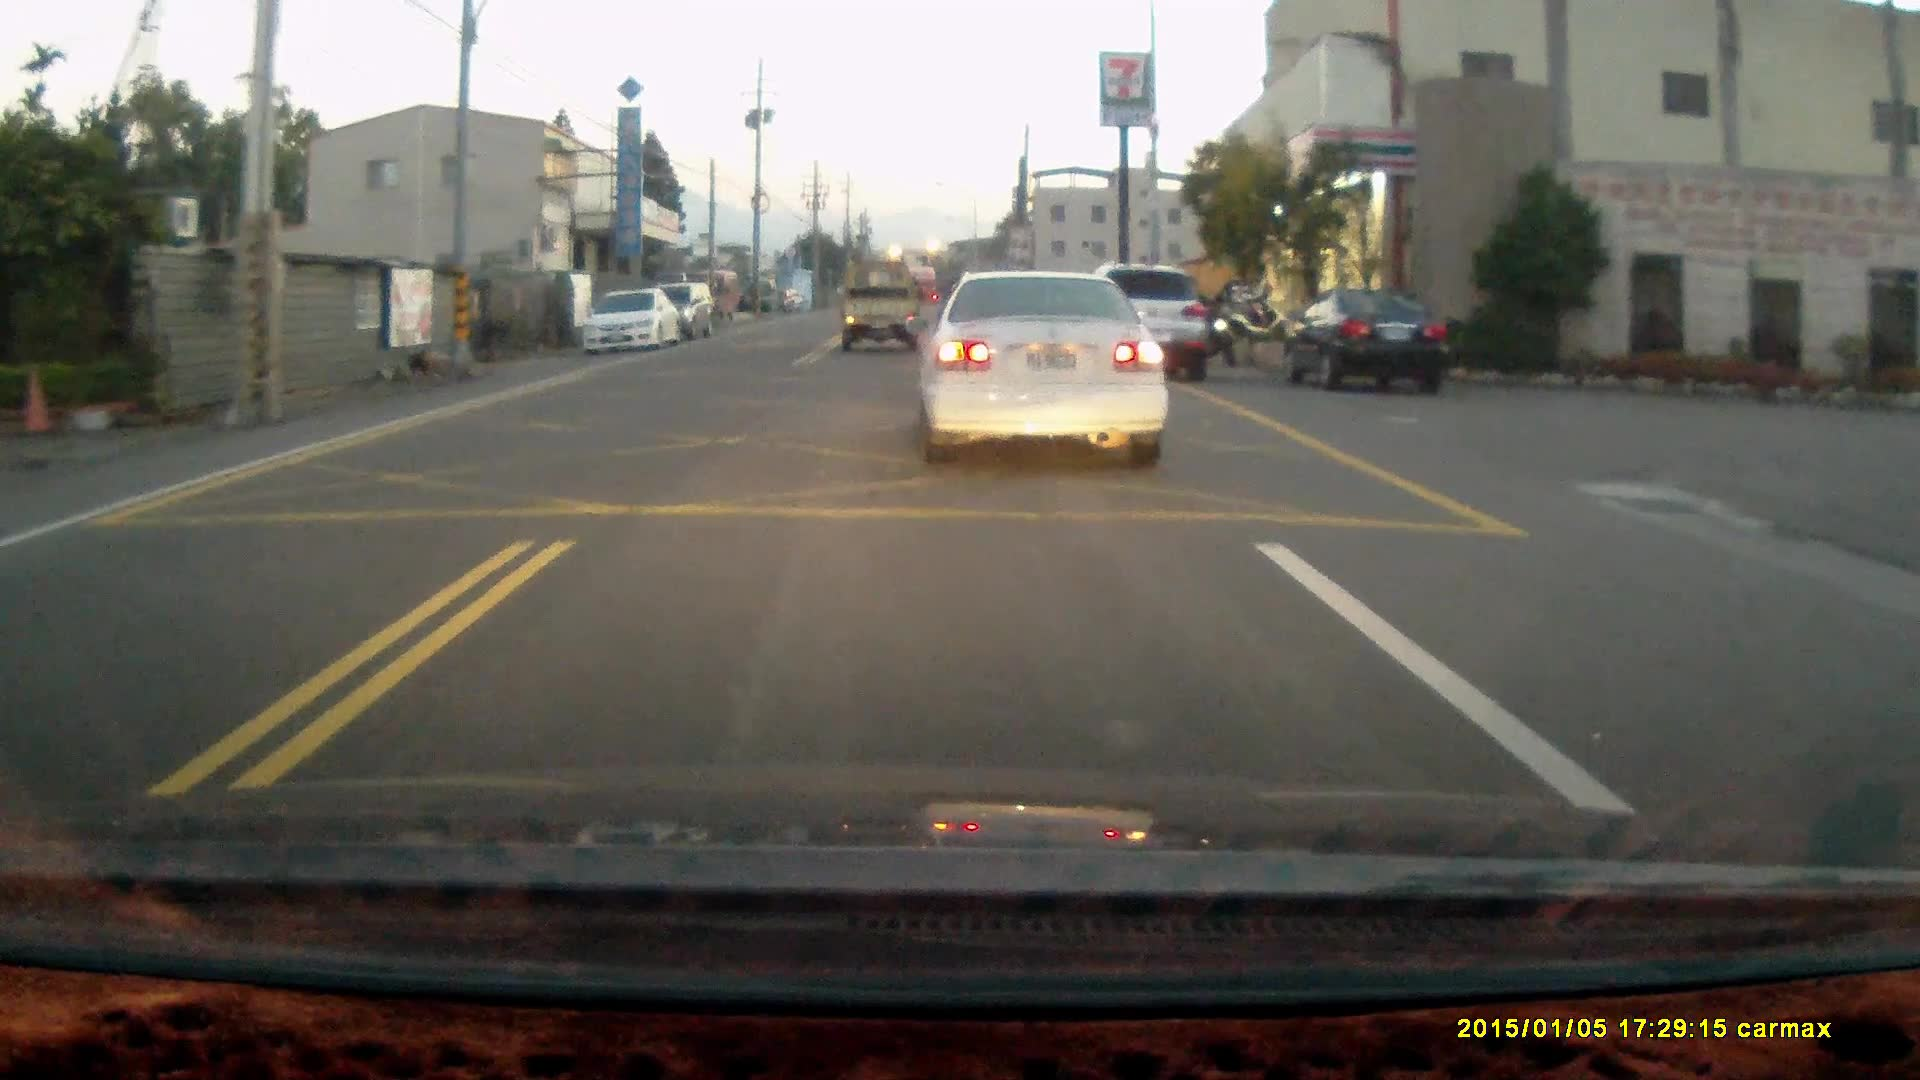vehicle: (919, 262, 1174, 472), (1279, 287, 1455, 400), (1083, 262, 1211, 380), (841, 264, 928, 356), (574, 285, 683, 357), (647, 280, 716, 345)
